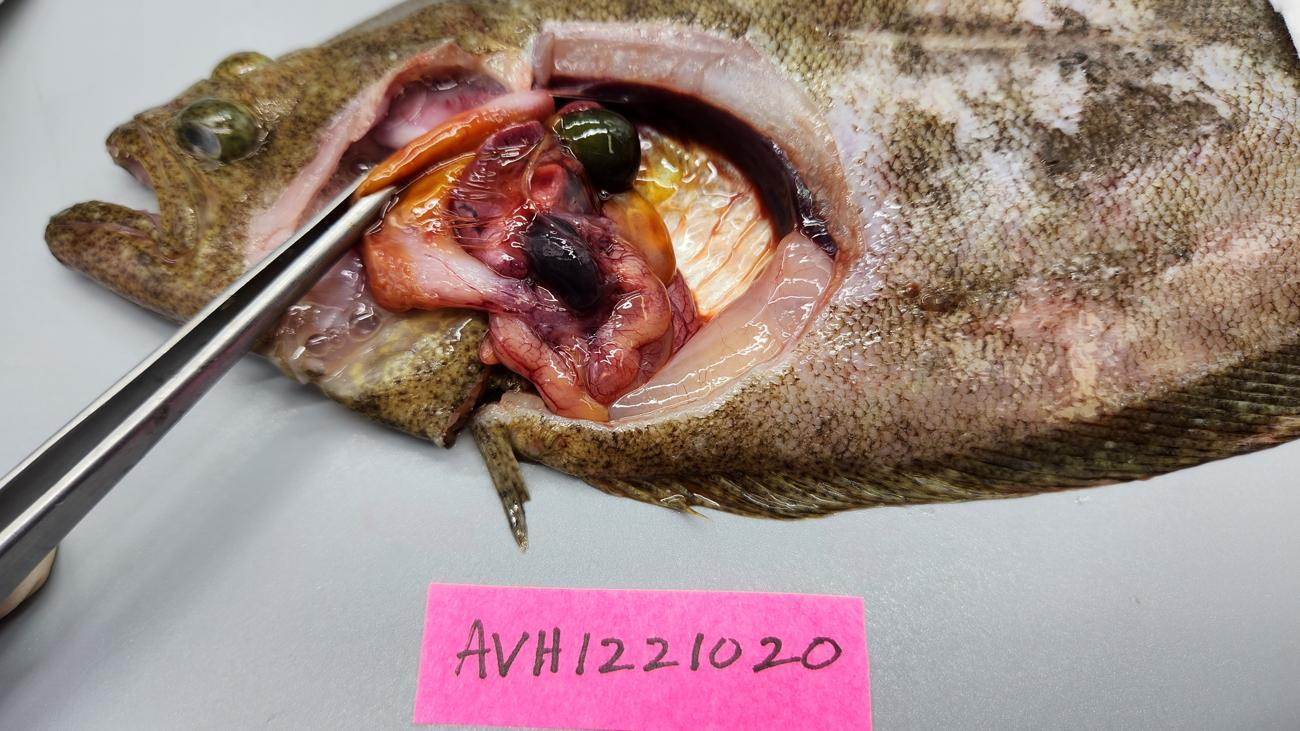VISPE: (523, 213, 609, 316)
